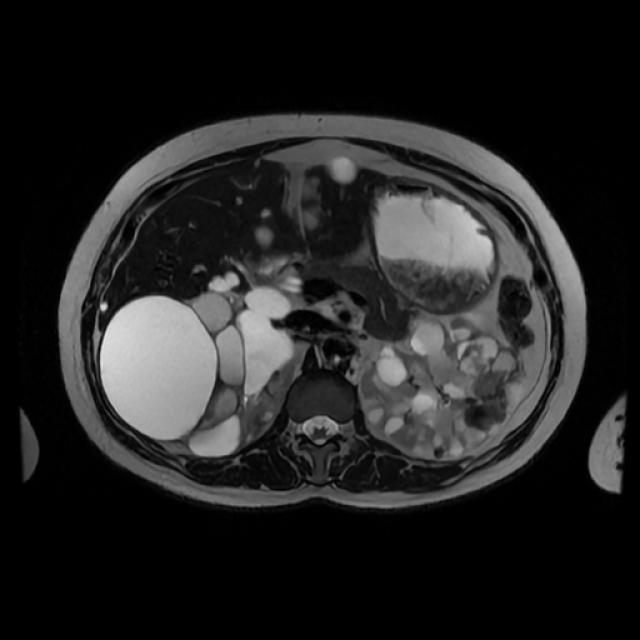sag: (96, 257, 303, 455)
sol: (357, 310, 528, 459)
